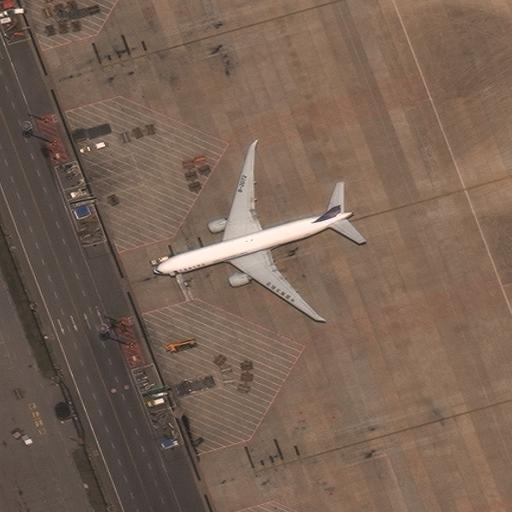Large Civil Transport: (153, 144, 354, 324)
